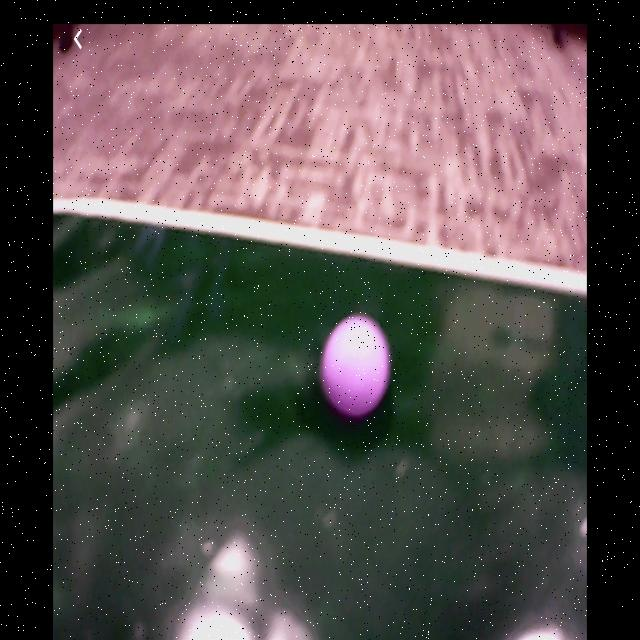ball: (323, 315, 392, 419)
